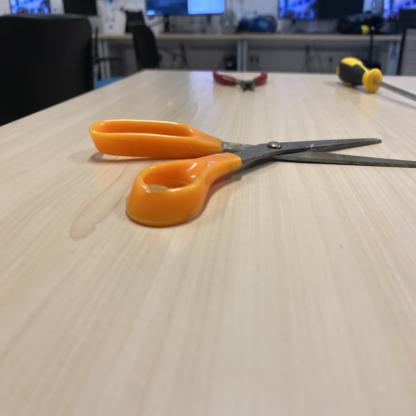scissors: (90, 117, 416, 227)
